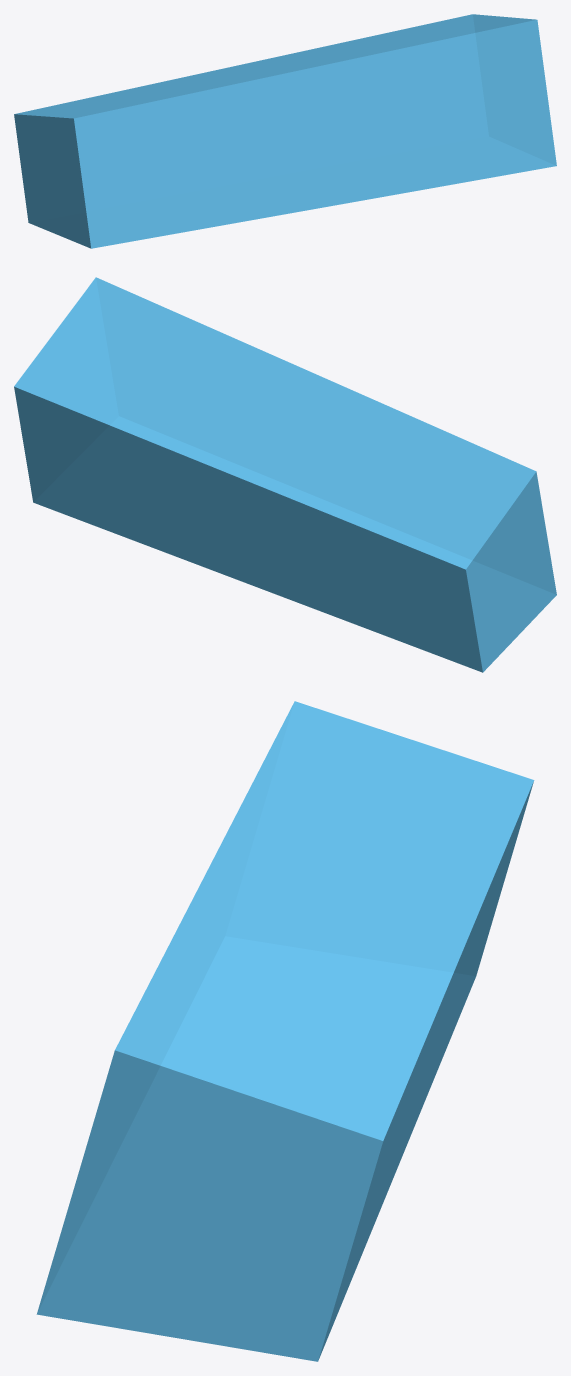
Rendered from Event_420107950_HErechit_25.fbx.
3 views of the same model, one above another, from view 1: azimuth 30°, elevation 25°; view 2: azimuth 150°, elevation 25°; view 3: azimuth 270°, elevation 25° (orthographic). The views are drawn at different scales.
Visible parts, largest first — view 1: Model; view 2: Model; view 3: Model.
Boxes of the visible parts, left/top/right/bottom form: Model: left=14, top=14, right=556, bottom=248; Model: left=14, top=277, right=556, bottom=672; Model: left=36, top=701, right=534, bottom=1361.
Size of the model in its own units: 1.27 by 0.4827 by 0.6508.
